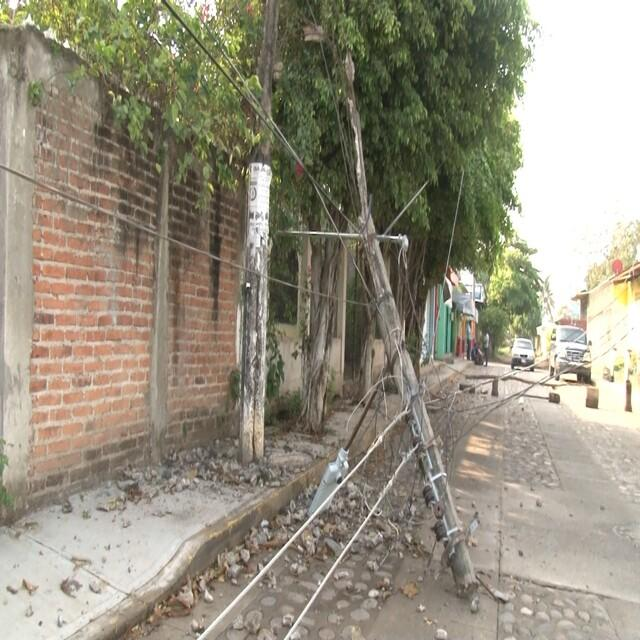Inclined Pole: (274, 27, 489, 596)
